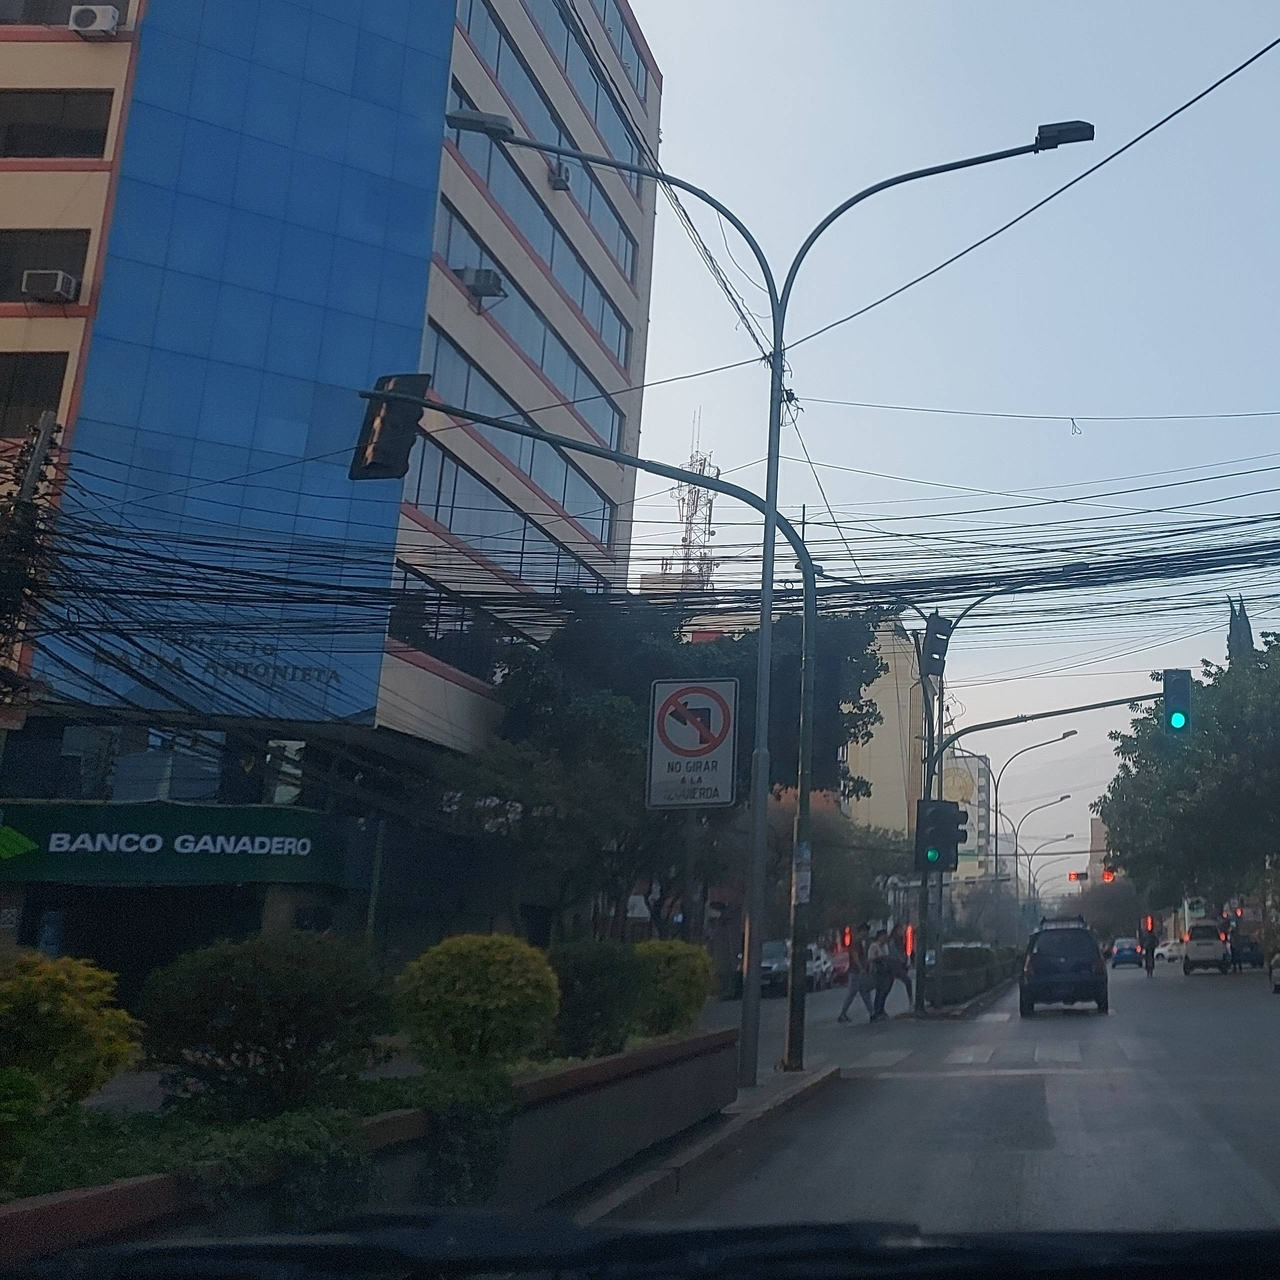prohibido-girar-izquierda: (647, 676, 740, 812)
